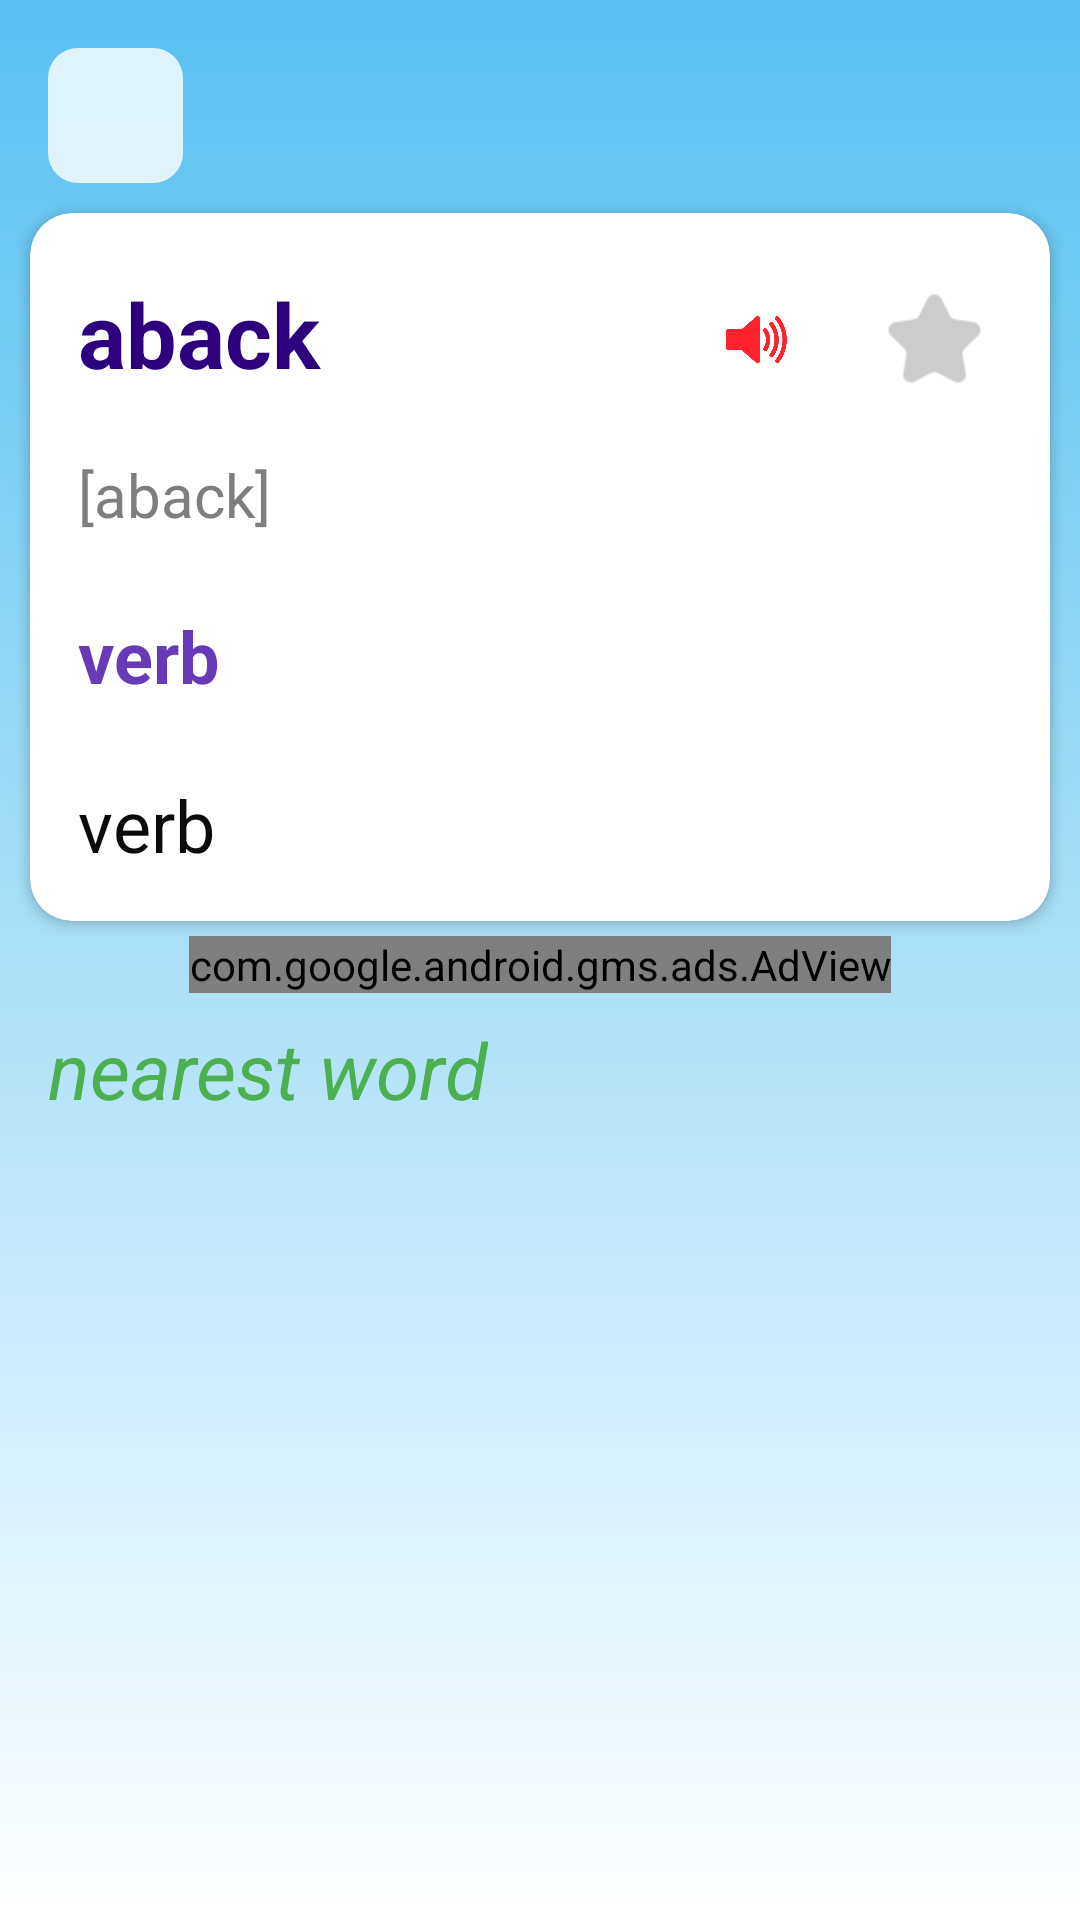

Screen size 1080x1920. Icon name, then its center in pixels as [x,y]:
speaker: [756,339]
starpale: [934,338]
